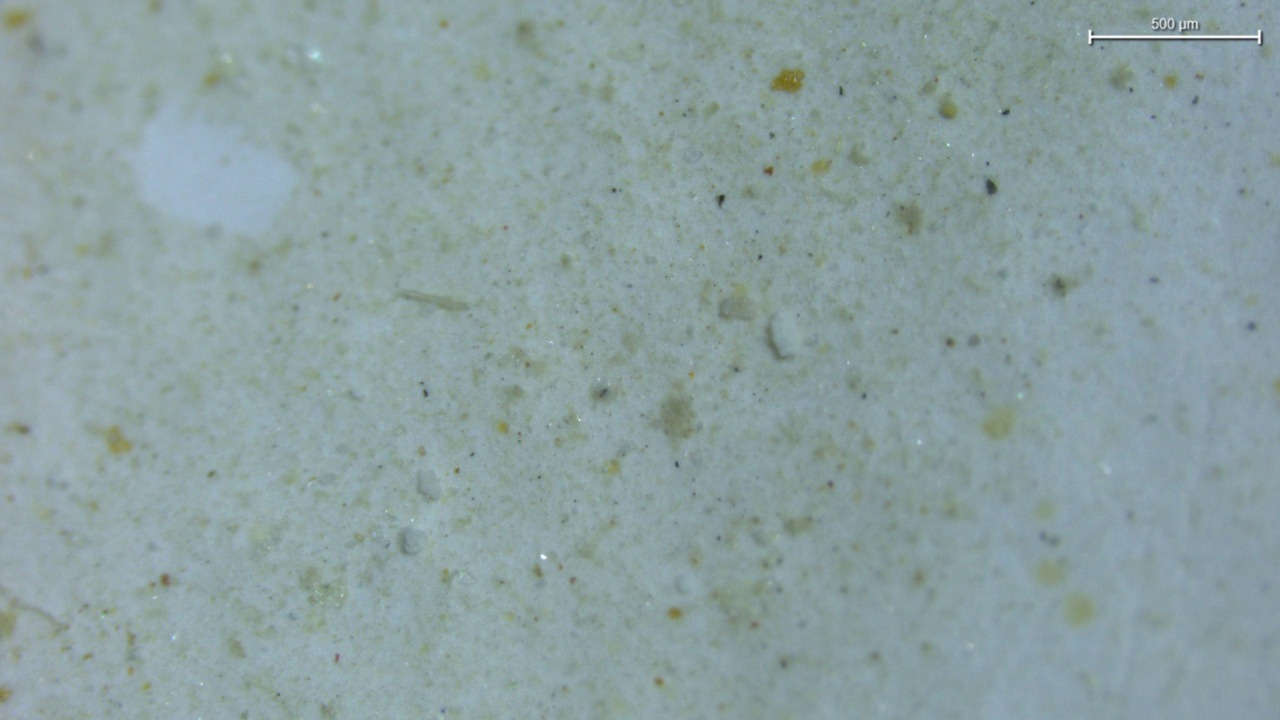microplastic_fragment: (768, 313, 802, 359), (718, 284, 754, 320), (415, 469, 442, 500), (398, 527, 425, 555)
